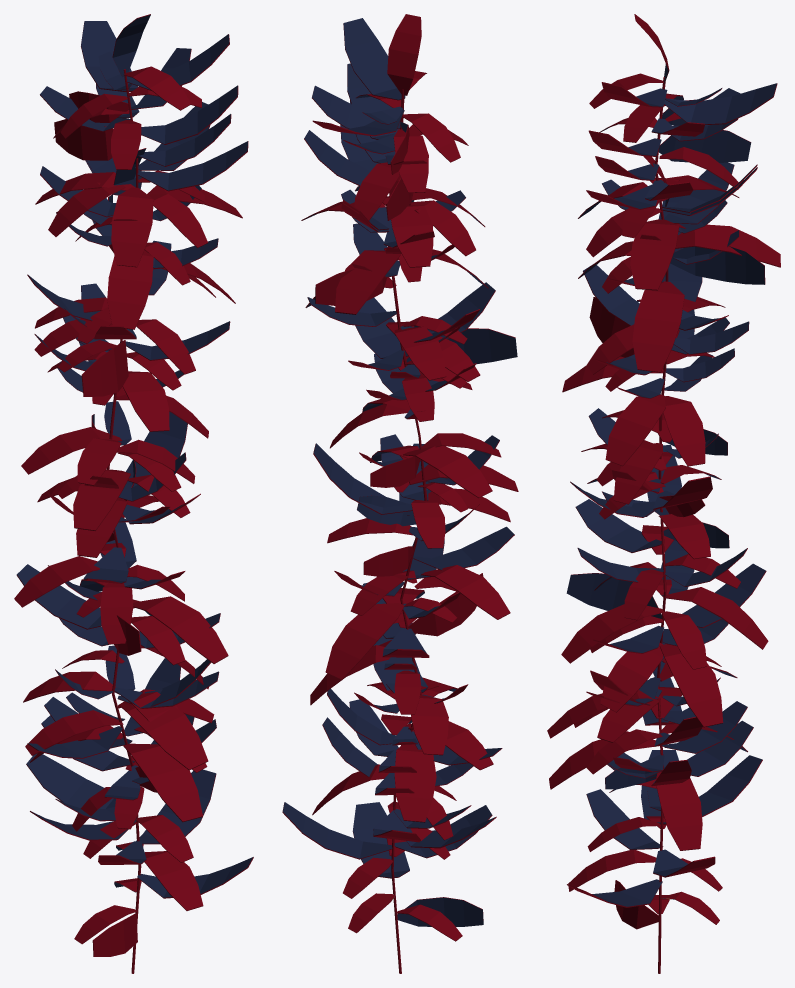
File: seetang.FBX
3 views of the same model, side by side, from view 1: azimuth 30°, elevation 25°; view 2: azimuth 150°, elevation 25°; view 3: azimuth 270°, elevation 25° (orthographic).
Visible parts, largest first — view 1: blatt_080, seetang_stiel_001; view 2: blatt_080, seetang_stiel_001; view 3: blatt_080, seetang_stiel_001.
Part boxes in pixels (x1=…): blatt_080: x1=14, y1=14, x2=253, y2=956; seetang_stiel_001: x1=107, y1=69, x2=141, y2=973; blatt_080: x1=282, y1=14, x2=518, y2=941; seetang_stiel_001: x1=388, y1=89, x2=427, y2=973; blatt_080: x1=547, y1=14, x2=780, y2=929; seetang_stiel_001: x1=655, y1=77, x2=668, y2=973.
Bounding box in the file's own units: 7.15 × 30.94 × 6.86.
Materials: 1 (1 with a texture image).
